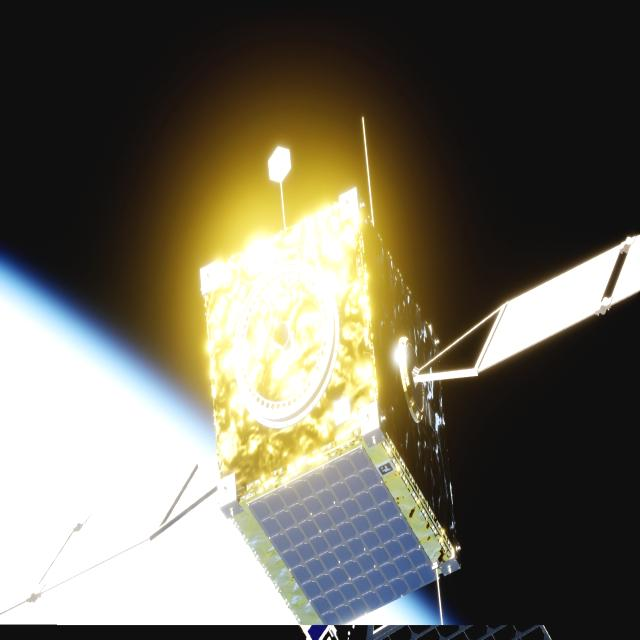medium_debris: (0, 187, 640, 629)
